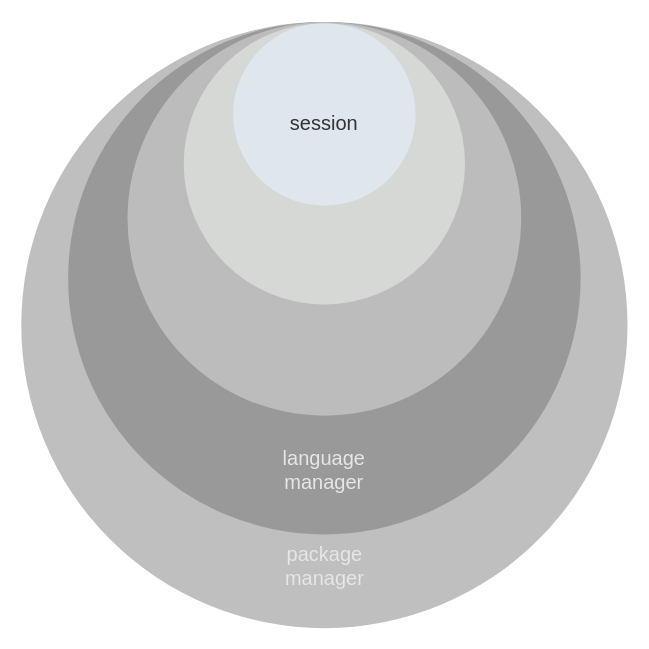
This 649x649 diagram has some shape labels left out. The shapes that lost their labels are listed below. From the top down, each one's box as (x1, y1, x2, y2) in pixels, then its label:
(183, 22, 464, 304): package environment
(127, 21, 521, 415): language versions
